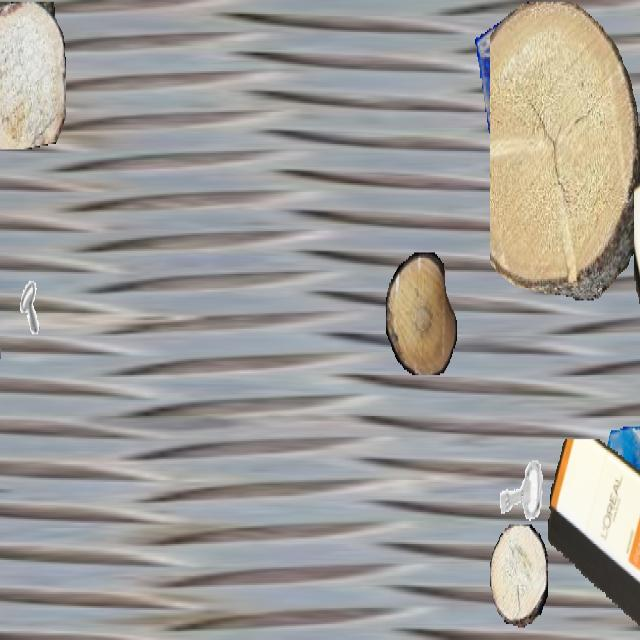glass: (475, 2, 567, 165), (592, 427, 640, 533), (628, 400, 640, 567), (0, 256, 1, 377)
metal: (547, 165, 605, 268), (494, 441, 550, 540), (0, 272, 41, 354)
plastic: (548, 439, 640, 638), (0, 2, 60, 180), (634, 172, 640, 428)
wood: (490, 2, 640, 300), (0, 2, 65, 148), (386, 252, 456, 374), (490, 524, 548, 628)
